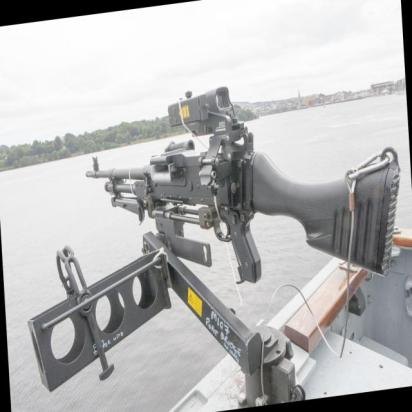Gun: (83, 117, 398, 285)
